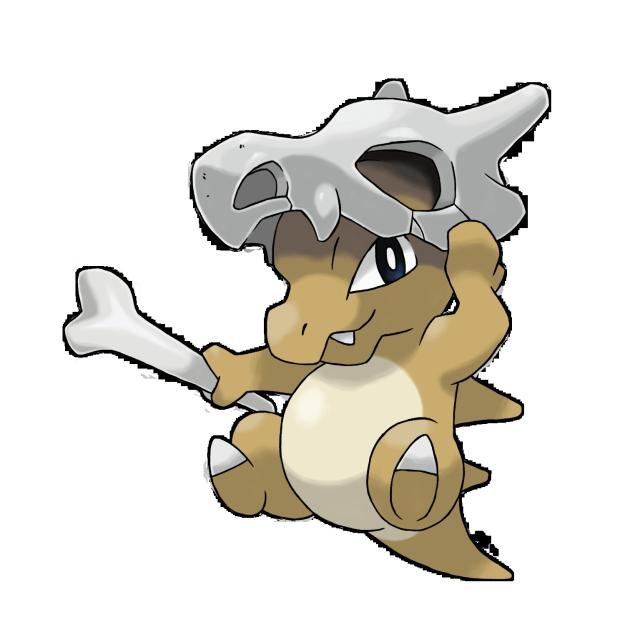Cubone: (160, 82, 530, 544)
